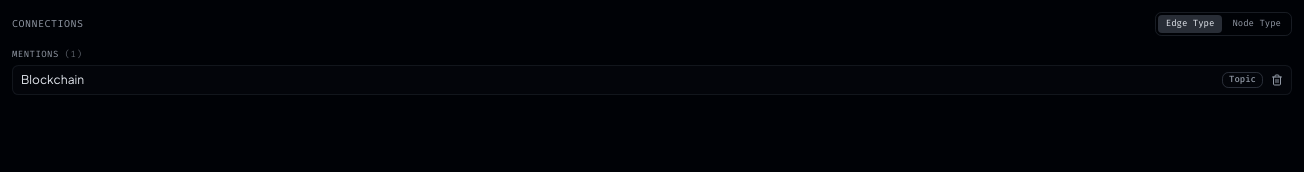
Test case: ConnectionsSection – admin delete › cancel hides the inline confirmation
The image size is (1304, 172).
Click the button named "Remove connection" at (1277, 80), box [1271,74,1283,86]
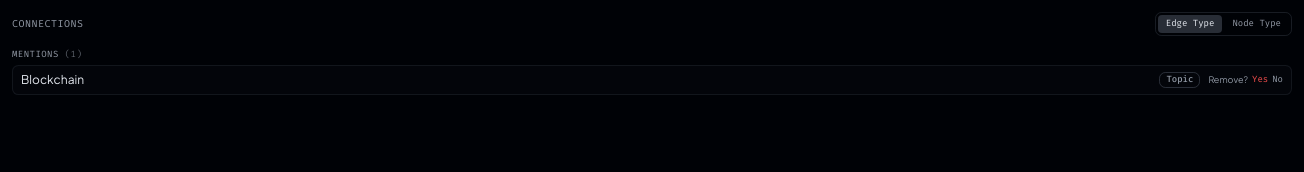
Click the button with aria-label "Cancel remove" at (1278, 80), box [1272,73,1283,87]
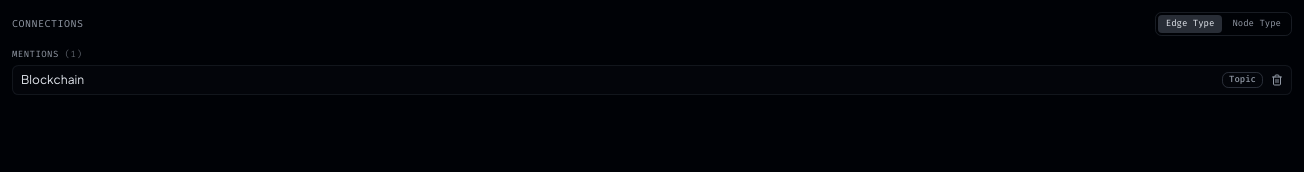
Expected: the text "Remove?" is gone
Expected: the button named "Remove connection" is shown, [1271,74,1283,86]
